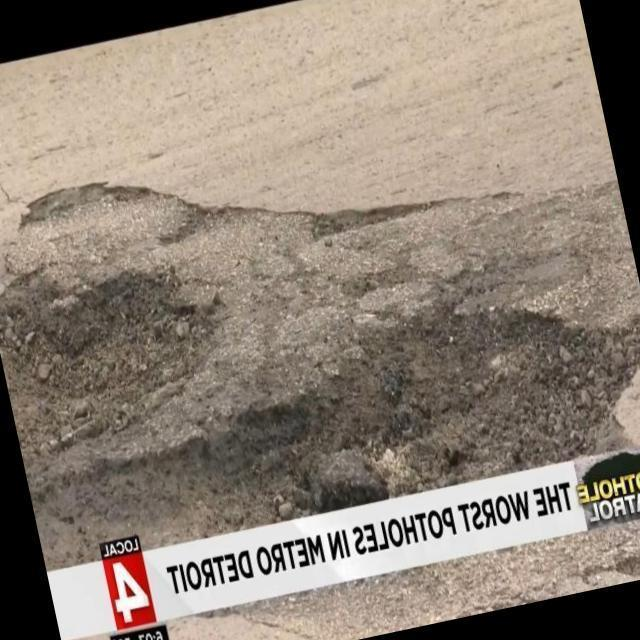Pothole: (0, 179, 640, 562)
